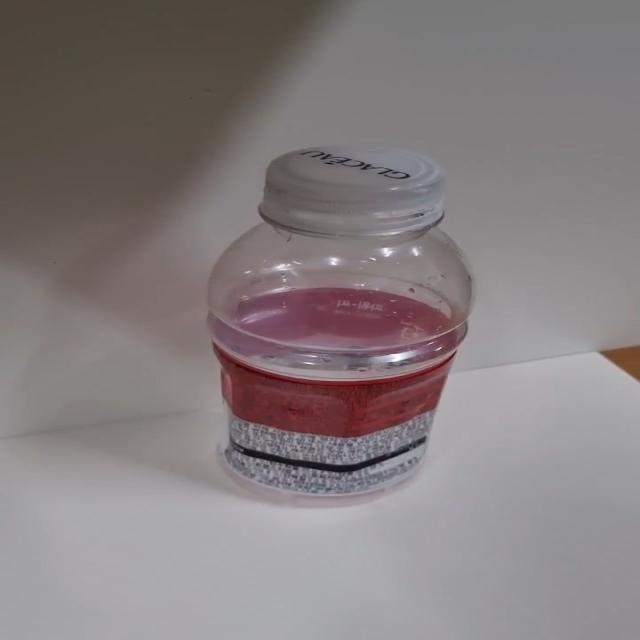Plastic: (205, 144, 474, 510)
